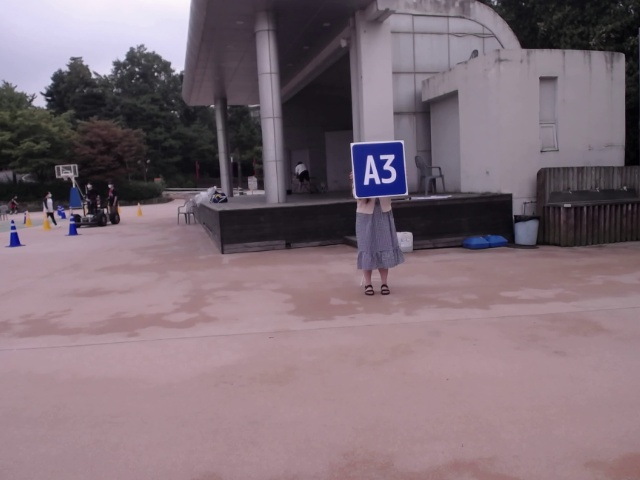delivery_a3: (351, 141, 408, 198)
